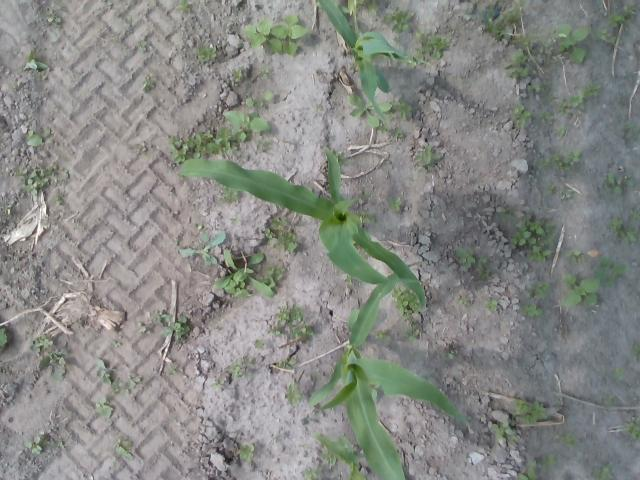Maize: (176, 142, 430, 308), (308, 260, 472, 480), (318, 0, 408, 129), (313, 431, 367, 480)
Weeds: (213, 249, 284, 297), (168, 126, 249, 164), (245, 14, 308, 57), (537, 24, 591, 66), (178, 225, 226, 266), (15, 164, 68, 196), (509, 214, 558, 248), (266, 304, 314, 338), (346, 93, 392, 128), (558, 80, 600, 114), (560, 273, 600, 306), (391, 283, 424, 322), (35, 349, 69, 383), (153, 311, 191, 341), (532, 148, 582, 170), (264, 218, 296, 252), (414, 29, 449, 60), (224, 110, 271, 132), (594, 256, 626, 288), (512, 396, 546, 426), (603, 170, 636, 196), (607, 218, 640, 244), (382, 5, 409, 34), (504, 48, 529, 78), (414, 144, 440, 172), (24, 49, 48, 79), (607, 4, 637, 28), (224, 358, 254, 380), (492, 420, 518, 441), (92, 358, 111, 386), (283, 382, 304, 406), (528, 82, 556, 100), (516, 458, 538, 480), (510, 104, 532, 126), (526, 280, 550, 300), (245, 91, 273, 108), (592, 26, 616, 45), (112, 376, 140, 392), (554, 432, 580, 449), (392, 98, 412, 120), (25, 436, 48, 455), (115, 437, 134, 460), (95, 395, 114, 418), (31, 334, 52, 354), (623, 416, 640, 440), (26, 130, 51, 146), (196, 44, 218, 62), (218, 184, 240, 202), (456, 246, 474, 268), (354, 0, 378, 16), (237, 442, 256, 461), (476, 255, 489, 282), (592, 463, 612, 480), (320, 444, 336, 465), (563, 250, 587, 264), (528, 246, 552, 260), (300, 466, 322, 480), (521, 303, 543, 317), (357, 210, 377, 224), (402, 326, 422, 340), (40, 12, 62, 24), (275, 358, 296, 370), (537, 110, 556, 123), (386, 196, 402, 211), (542, 454, 556, 471), (142, 74, 155, 92), (335, 150, 349, 166), (374, 329, 390, 342), (0, 327, 9, 350), (484, 297, 498, 311), (258, 66, 272, 79), (177, 0, 190, 13), (560, 188, 574, 200), (620, 122, 636, 132), (232, 68, 244, 80), (632, 343, 640, 361), (136, 40, 147, 53), (629, 210, 640, 222), (614, 366, 625, 378), (602, 395, 614, 406), (254, 339, 265, 350), (392, 128, 404, 138), (377, 123, 389, 133), (499, 208, 511, 218), (556, 125, 566, 136), (444, 349, 454, 360), (546, 184, 556, 194), (344, 274, 354, 284), (211, 380, 223, 388), (458, 299, 468, 307), (168, 365, 176, 375), (4, 206, 12, 216), (258, 140, 270, 146), (140, 151, 152, 157), (55, 197, 63, 206), (112, 340, 120, 348), (56, 438, 64, 446), (11, 82, 21, 88), (556, 395, 562, 404), (600, 367, 606, 375), (317, 104, 323, 110)
